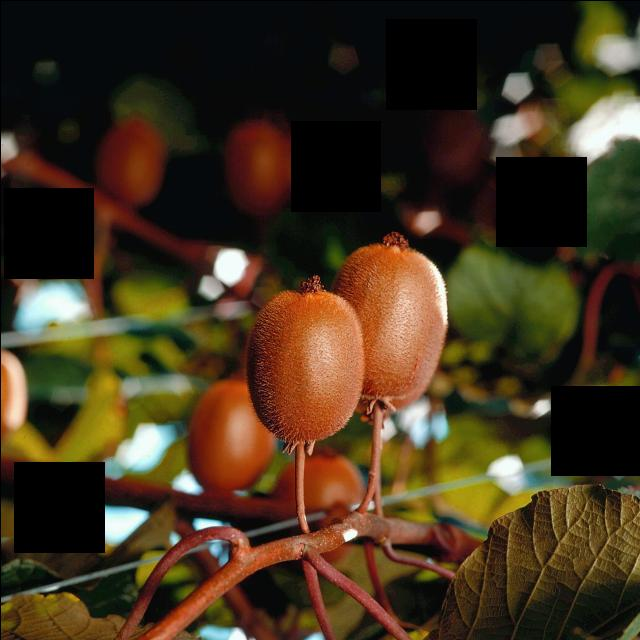kiwi: (237, 276, 368, 458), (324, 233, 448, 409), (176, 374, 279, 502), (264, 438, 368, 534)
